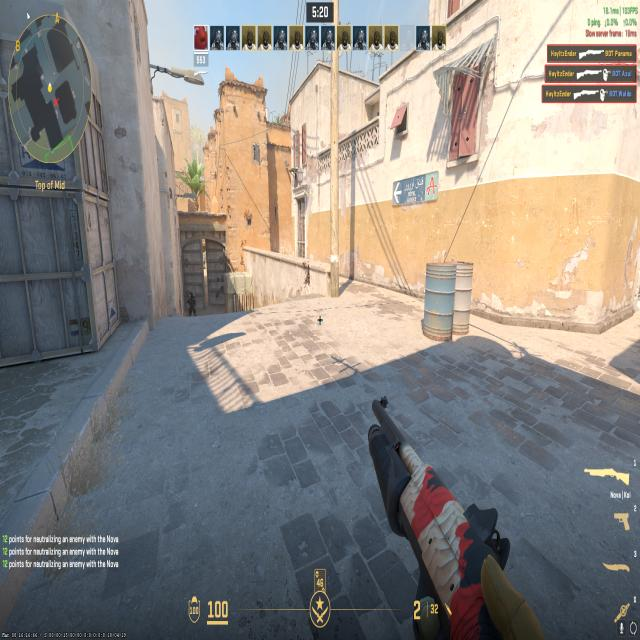ct: (185, 287, 197, 319)
